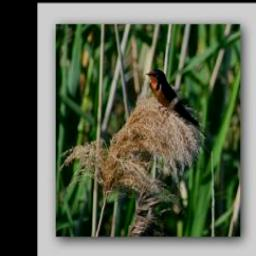Swallow: (143, 66, 205, 133)
